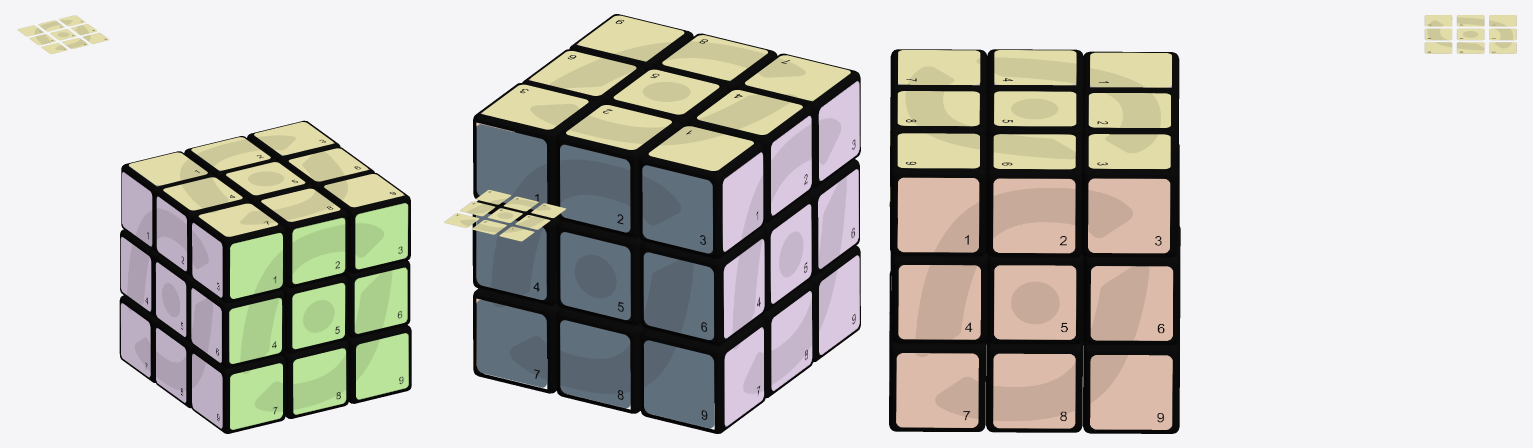
Rendered from Rubix_cube_PASTEL_trans2.glb.
3 renders of one model, left to right at view 1: azimuth 30°, elevation 25°; view 2: azimuth 150°, elevation 25°; view 3: azimuth 270°, elevation 25°, orthographic. The views are drawn at different scales.
Visible parts, largest first — view 1: top_block_6, s3_block_3, s3_block_6, s3_block_2, s3_block_8, s3_block_5, s3_block_4, s3_block_7, s3_block_9, s3_block_1, top_block_7.001, s4_block_4 (+34 smaller); view 2: top_block_6, s1_block_3, s1_block_5, s1_block_8, s1_block_9, s1_block_6, s1_block_2, s1_block_7, s1_block_1, s1_block_4, top_block_1.001, s4_block_1 (+34 smaller); view 3: s2_block_3, s2_block_2, s2_block_1, s2_block_5, s2_block_8, s2_block_6, s2_block_4, s2_block_9, s2_block_7, top_block_6, top_block_3.001, top_block_9 (+21 smaller).
Part boxes in pixels (x1,y1,x2,y2): top_block_6: (17,15,367,181); s3_block_3: (355,202,408,270); s3_block_6: (354,266,407,334); s3_block_2: (292,216,345,284); s3_block_8: (293,347,346,415); s3_block_5: (292,282,345,349); s3_block_4: (229,297,282,364); s3_block_7: (229,362,282,430); s3_block_9: (356,332,408,400); s3_block_1: (230,232,282,298); top_block_7.001: (191,202,285,302); s4_block_4: (120,235,151,312); top_block_6: (444,51,636,241); s1_block_3: (642,165,712,253); s1_block_5: (560,232,630,319); s1_block_8: (560,320,630,408); s1_block_9: (643,340,714,428); s1_block_6: (643,252,714,340); s1_block_2: (560,144,630,232); s1_block_7: (476,299,546,387); s1_block_1: (476,124,547,209); s1_block_4: (476,213,546,299); top_block_1.001: (639,124,764,258); s4_block_1: (722,150,763,253); s2_block_3: (1088,178,1170,253); s2_block_2: (993,178,1075,253); s2_block_1: (897,177,979,252); s2_block_5: (993,265,1076,340); s2_block_8: (993,353,1075,428); s2_block_6: (1090,266,1173,340); s2_block_4: (898,264,980,339); s2_block_9: (1090,355,1172,429); s2_block_7: (896,353,978,427); top_block_6: (993,15,1516,169); top_block_3.001: (1081,133,1177,257); top_block_9: (890,132,986,256).
Size of the model in its own units: 6.08 by 7.17 by 13.05.
7 materials, 6 textured.
